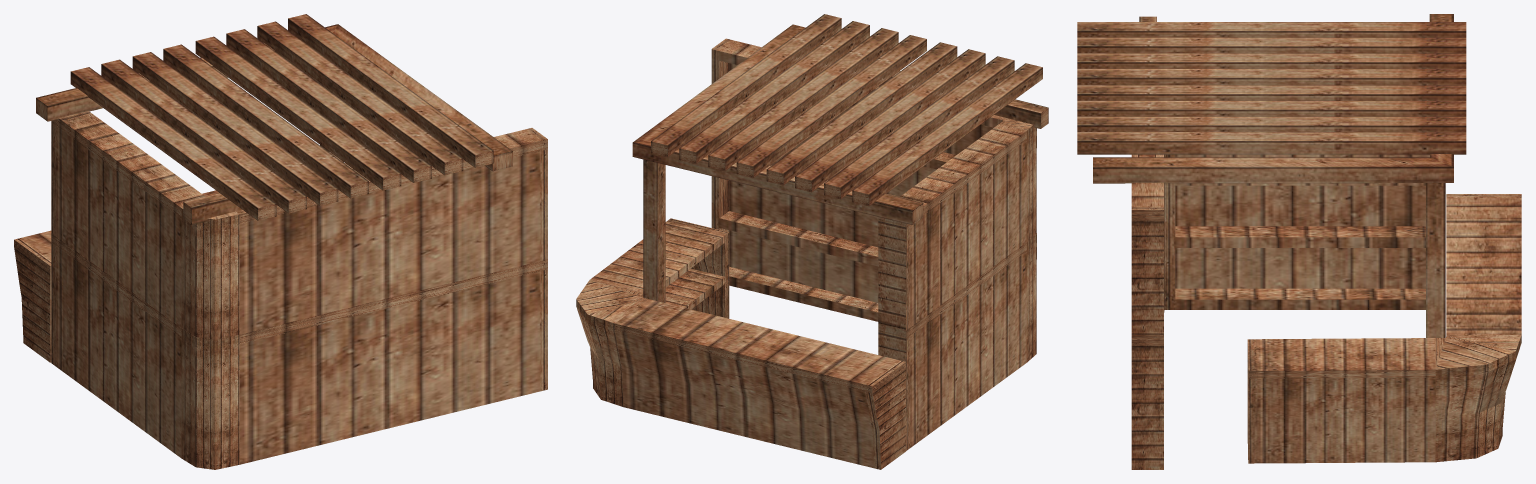
File: obj_countertop.fbx
The picture shows the model from 3 angles, left to right: view 1: azimuth 30°, elevation 25°; view 2: azimuth 150°, elevation 25°; view 3: azimuth 270°, elevation 25°; orthographic projection. The views are drawn at different scales.
Visible parts, largest first — view 1: polySurface1331; view 2: polySurface1331; view 3: polySurface1331.
Part boxes in pixels (left/top/right/bottom): polySurface1331: left=14, top=14, right=547, bottom=469; polySurface1331: left=576, top=14, right=1048, bottom=469; polySurface1331: left=1077, top=14, right=1521, bottom=469.
Bounding box in the file's own units: 13.95 × 10.28 × 14.37.
Materials: 1 (1 with a texture image).
